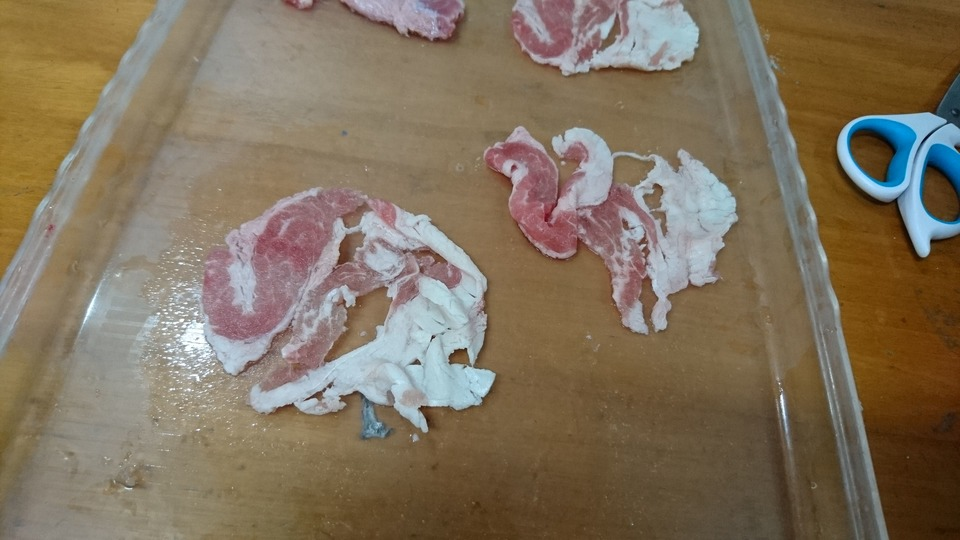restructured meat: (204, 191, 510, 433), (482, 123, 751, 338)
